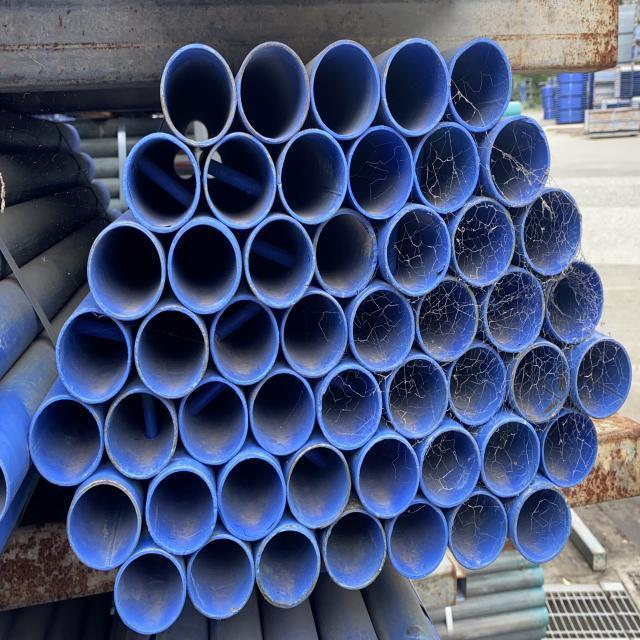pipe: (87, 226, 169, 325), (372, 42, 451, 142), (123, 132, 200, 231), (306, 39, 382, 138), (241, 44, 315, 143), (168, 218, 242, 315), (56, 315, 134, 407), (161, 44, 234, 142), (28, 396, 104, 489), (134, 307, 209, 401), (66, 481, 142, 573), (276, 128, 347, 225), (204, 132, 277, 226), (244, 214, 316, 309), (147, 466, 221, 557), (112, 551, 188, 638), (102, 391, 176, 480), (382, 208, 452, 302), (414, 273, 485, 365), (445, 41, 515, 134), (346, 121, 415, 215), (176, 376, 247, 465), (351, 281, 421, 371), (213, 297, 282, 386), (247, 369, 316, 457), (485, 122, 553, 211), (218, 456, 290, 540), (280, 291, 347, 381), (288, 445, 357, 532), (185, 535, 256, 619), (355, 434, 422, 523), (315, 365, 383, 452), (450, 196, 515, 287), (314, 212, 379, 301), (253, 527, 321, 611), (417, 119, 480, 209), (385, 358, 452, 442), (524, 191, 585, 283), (540, 263, 605, 349), (541, 401, 599, 494), (323, 506, 389, 587), (511, 339, 571, 428), (418, 429, 482, 510), (384, 501, 447, 583), (575, 331, 633, 420), (483, 268, 543, 354), (448, 341, 507, 428), (479, 421, 542, 500), (446, 493, 508, 570), (514, 485, 575, 563)
